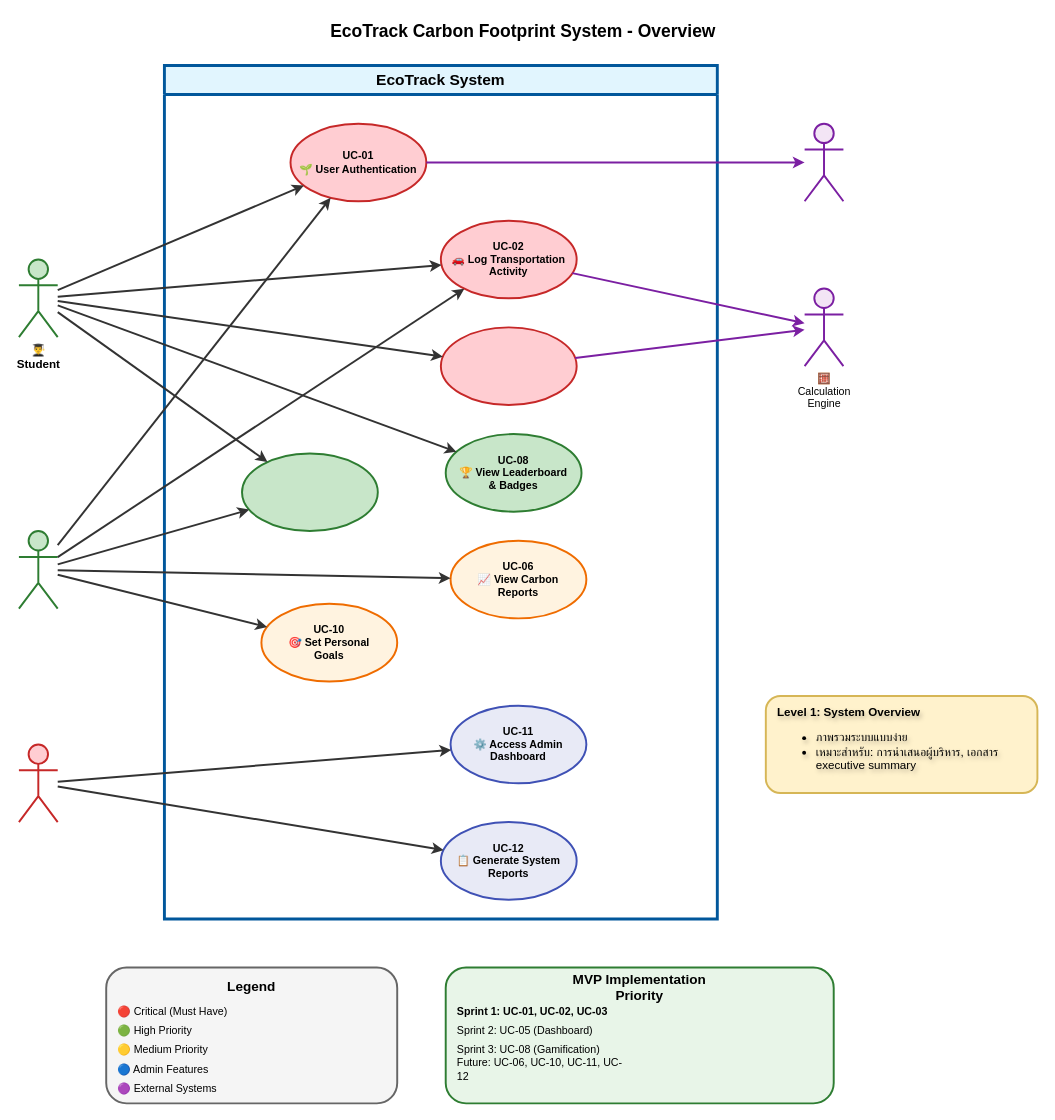
This 1055x1120 diagram has some shape labels left out. The box of each missing label's shape, as (x1, y1, x2, y2) in pixels:
UC-03 ⚡ Log Energy Usage: (439, 326, 577, 405)
UC-05 📊 View Personal Dashboard: (241, 452, 378, 532)
👩‍💼 Staff: (17, 530, 58, 609)
📡 University SSO: (803, 122, 844, 202)
🔧 Admin: (17, 743, 58, 823)
